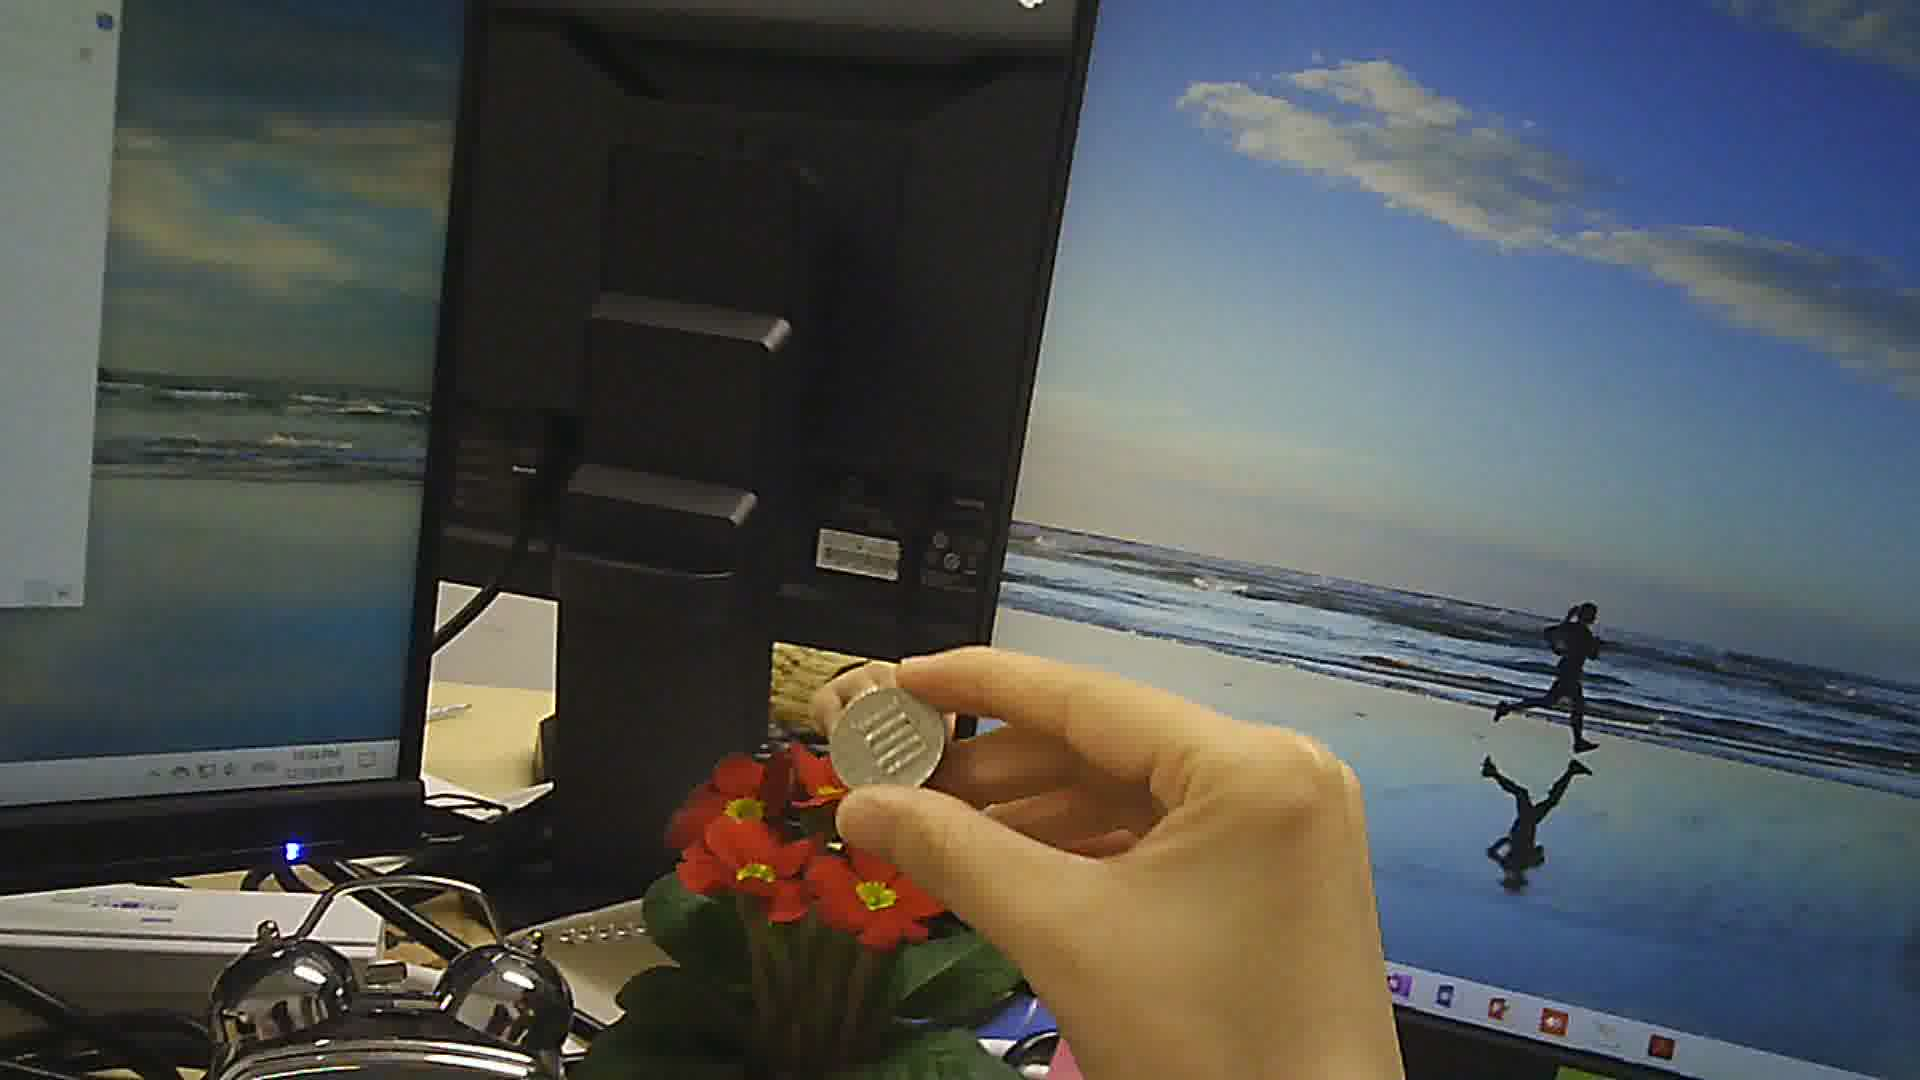100 Yen: (822, 684, 952, 807)
